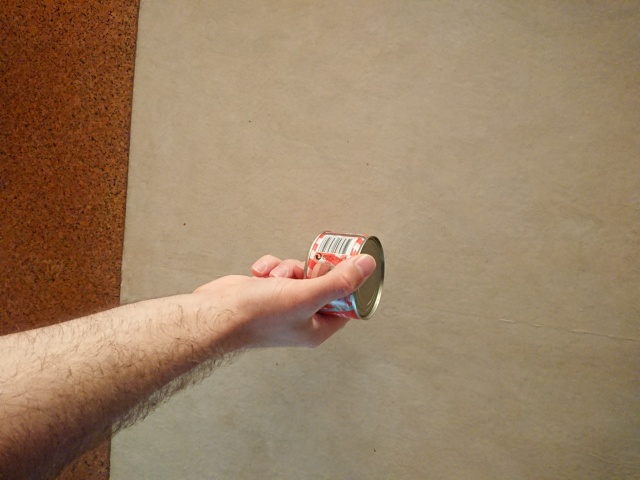Podravka Luncheon Meat 150g: (299, 228, 386, 324)
